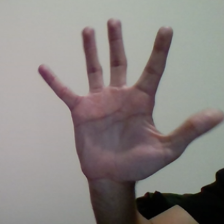left: (35, 12, 224, 186)
